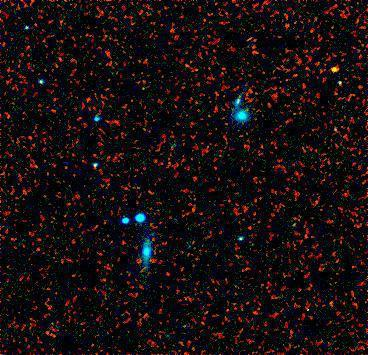star: (321, 55, 351, 85)
